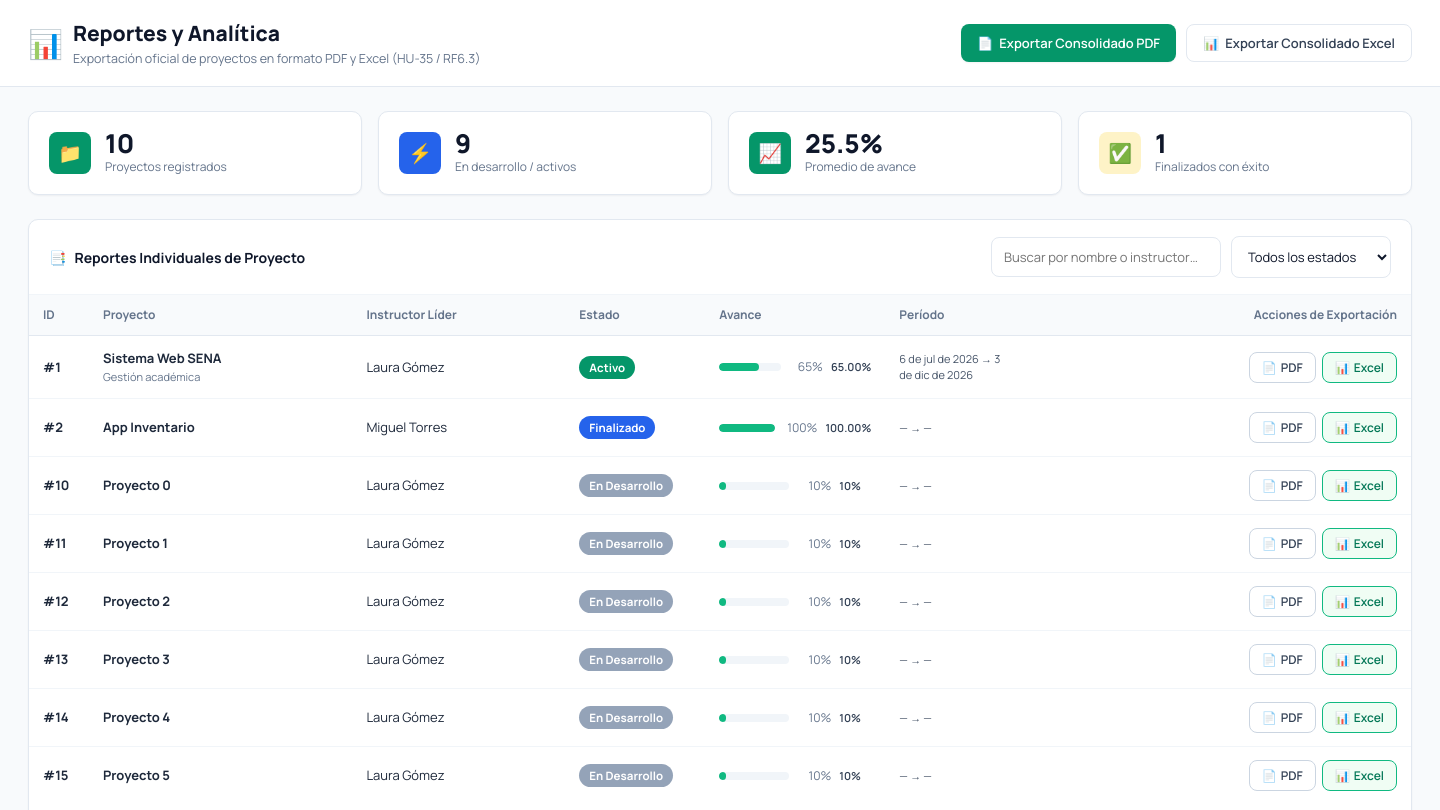
Test: ReportesPage › should download the consolidated PDF and Excel from the backend
Expected: the text "Sistema Web SENA" is shown, [103,349,222,367]
Click the button titled "Exporta todos los proyectos en un documento PDF institucional": x=1069, y=43 [961,24,1176,62]
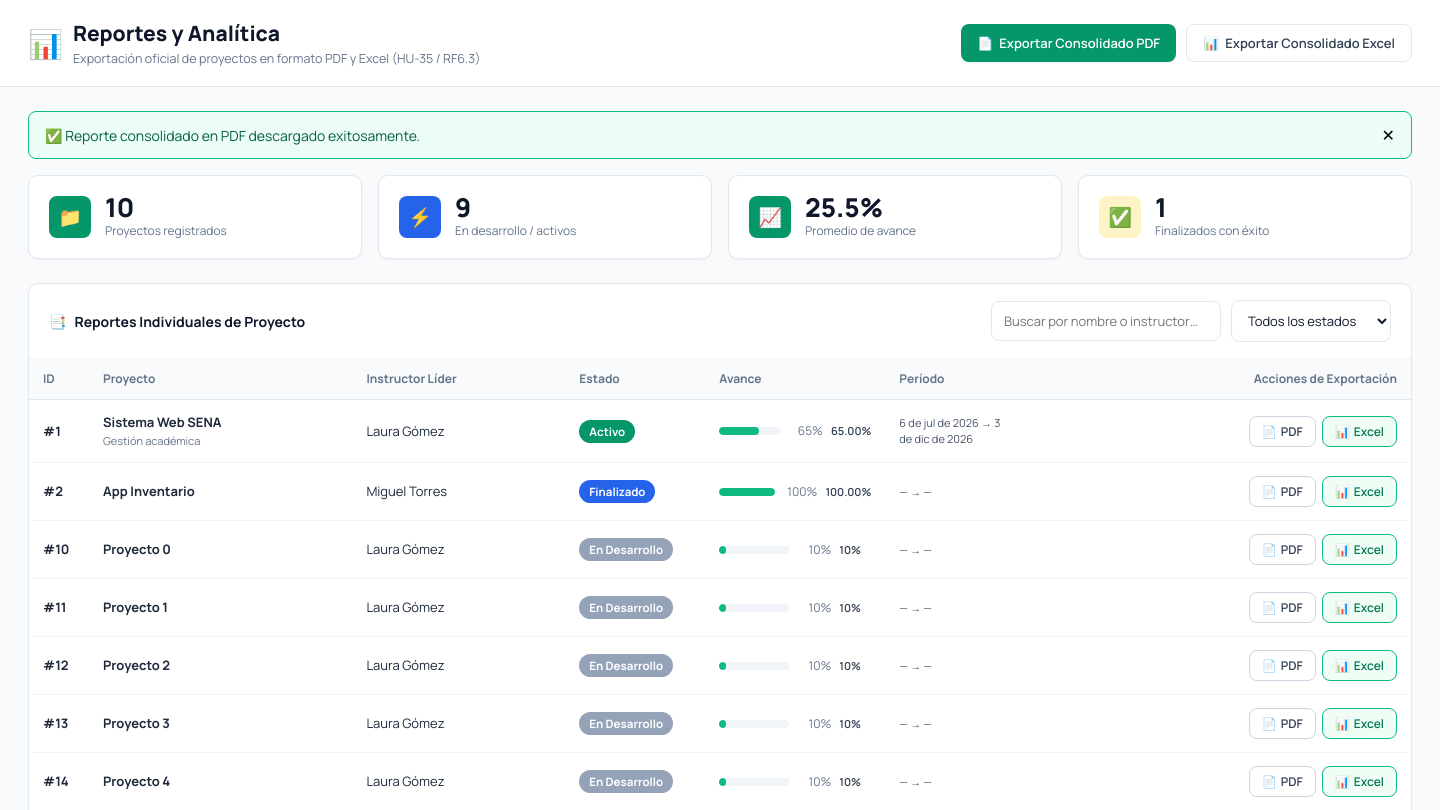
Expected: the text "✅ Reporte consolidado en PDF descargado exitosamente." is shown, [45,125,420,146]
Click the button titled "Exporta todos los proyectos en un libro Excel estructurado": x=1299, y=43 [1186,24,1412,62]
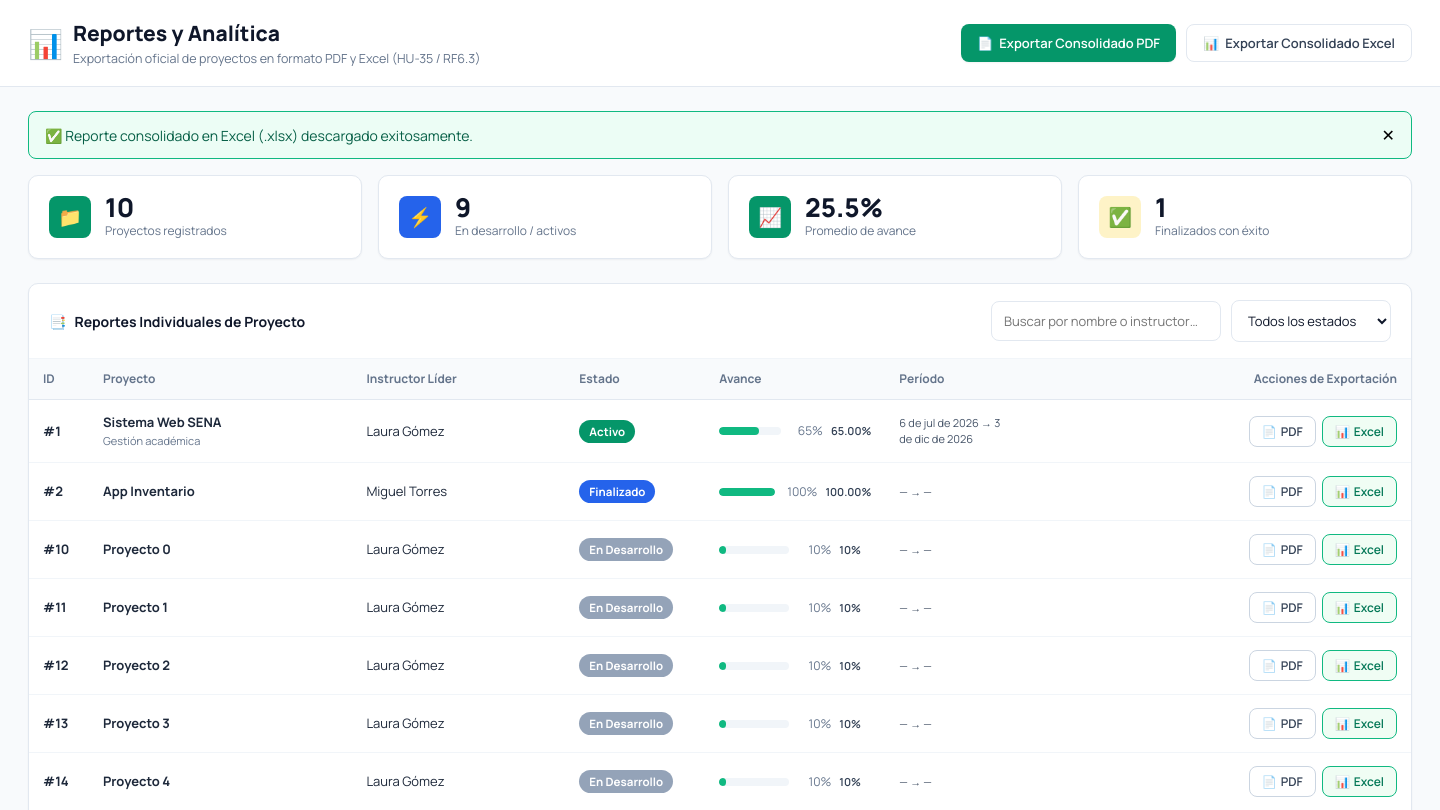
Expected: the text "✅ Reporte consolidado en Excel (.xlsx) descargado exitosamente." is shown, [45,125,473,146]
